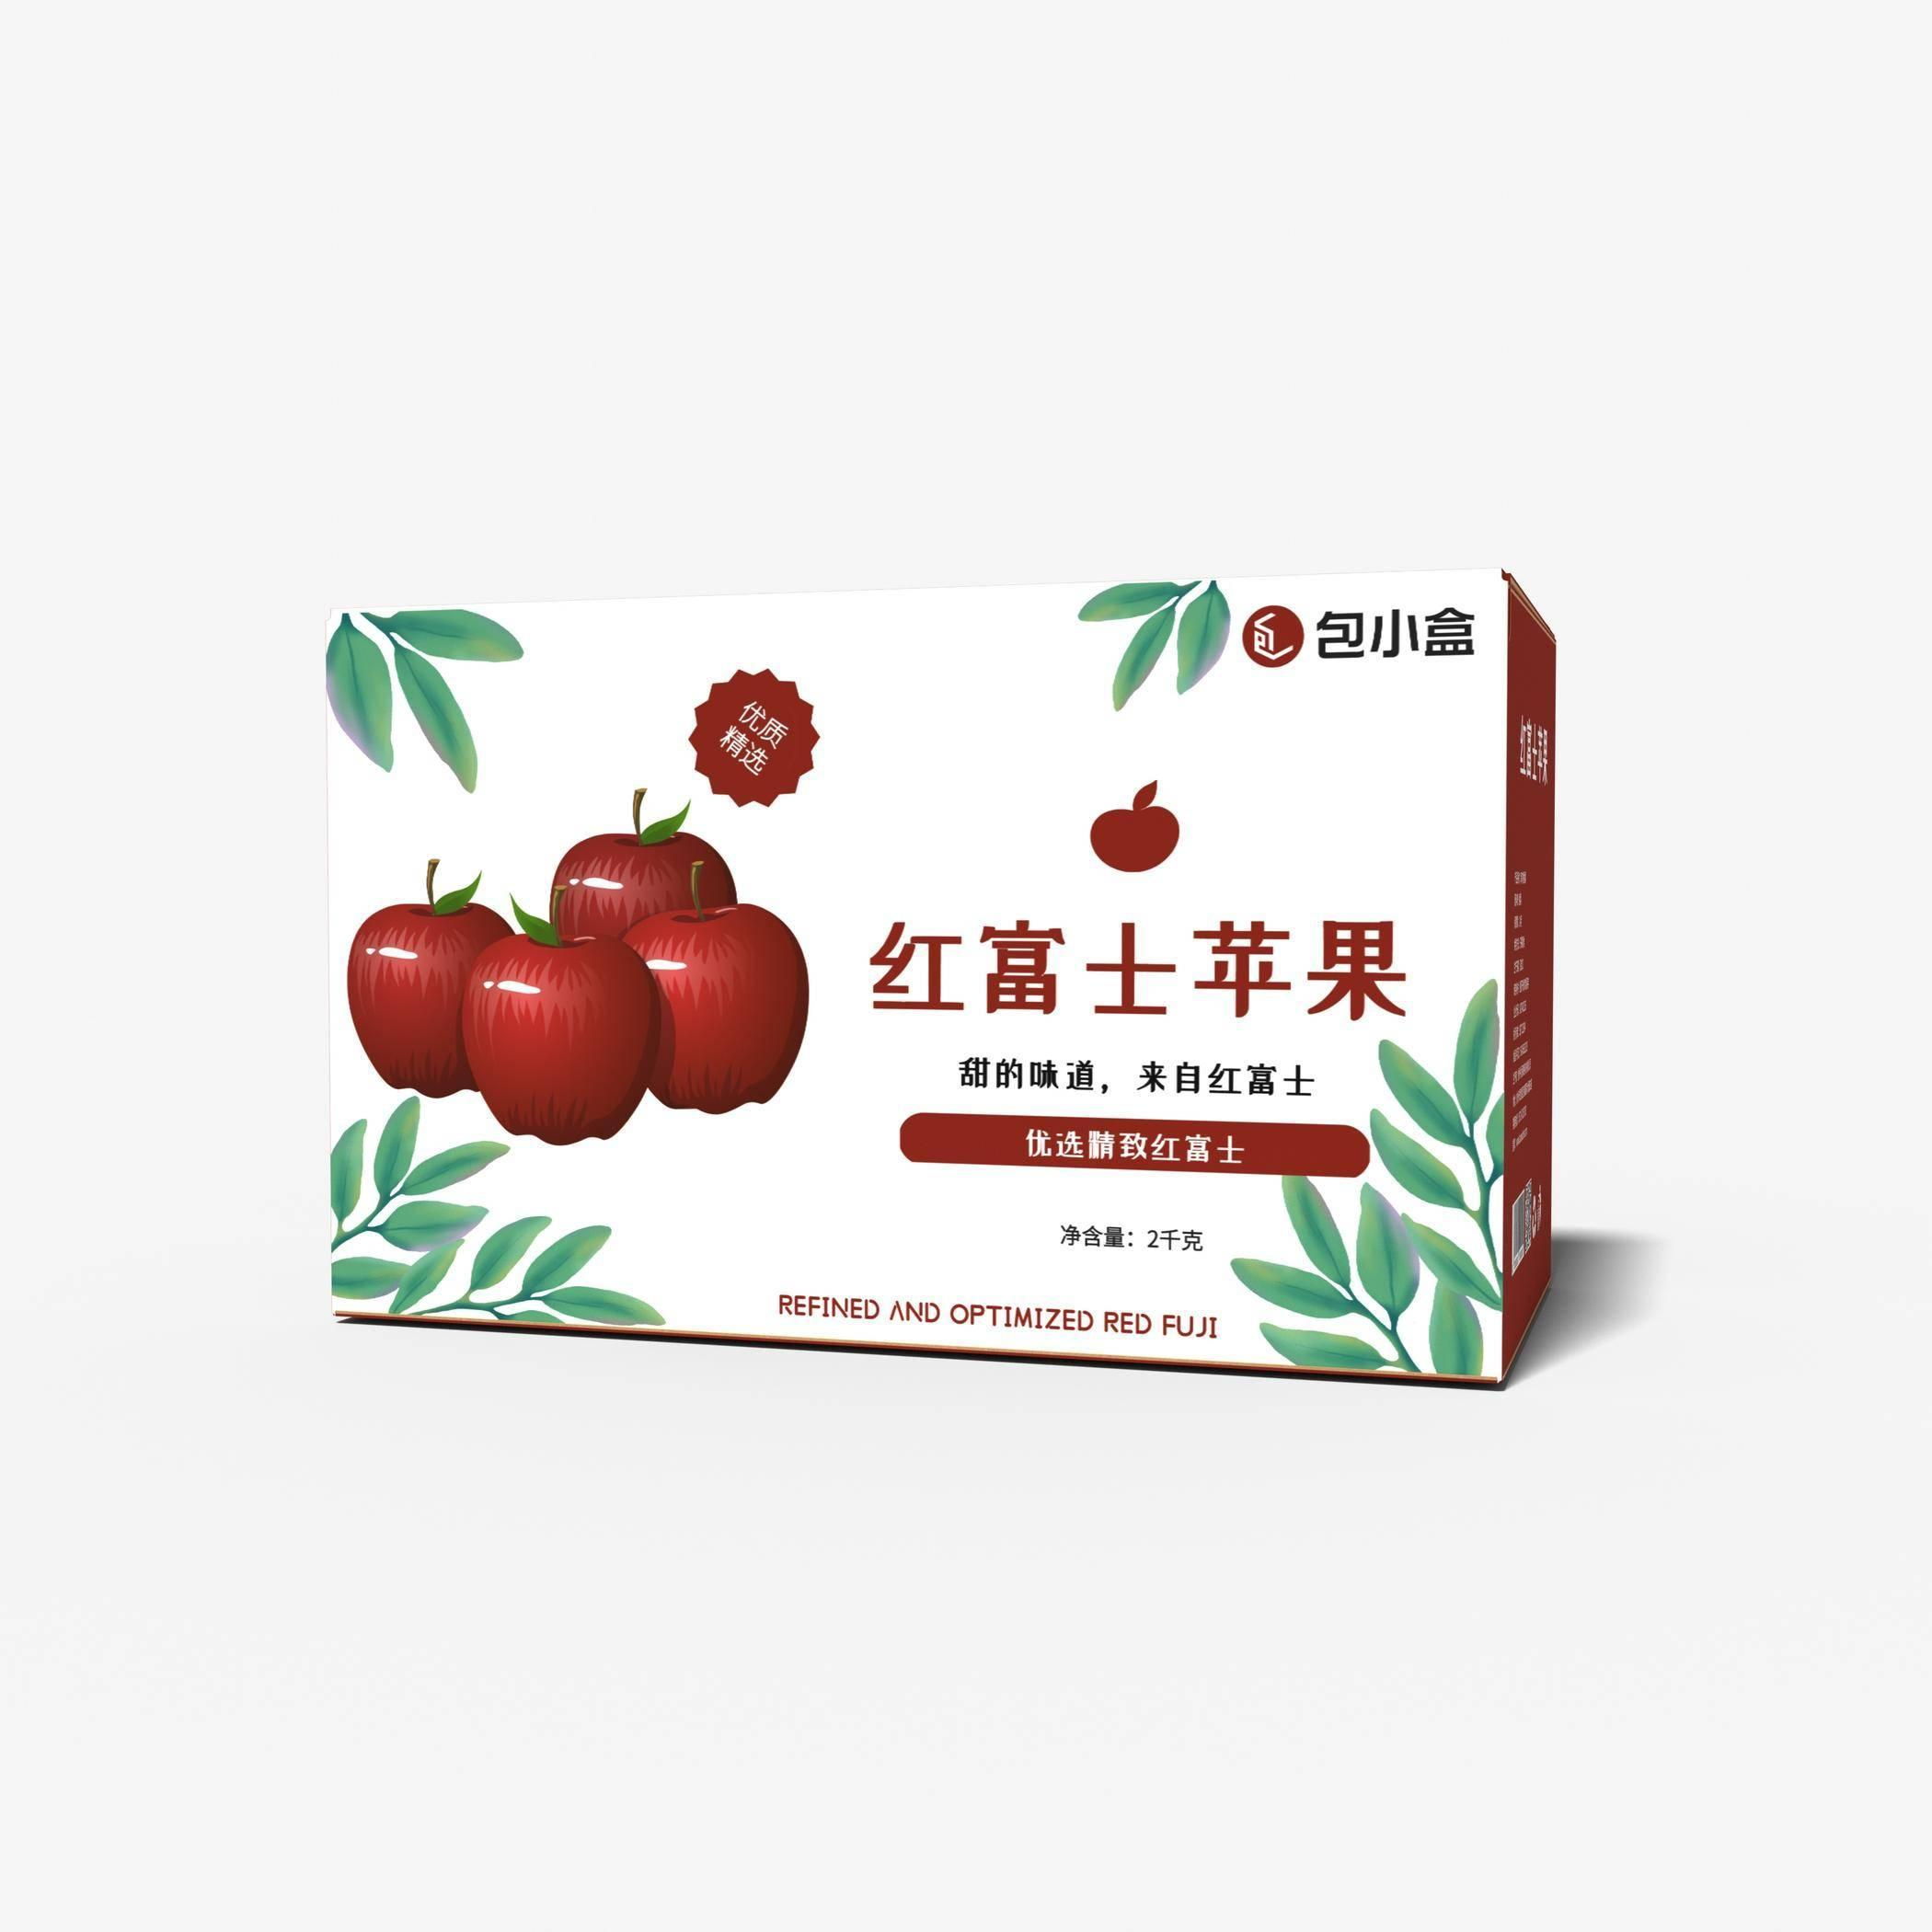apple: (619, 904, 803, 1118), (467, 936, 649, 1145), (347, 895, 508, 1097), (548, 826, 741, 938)
